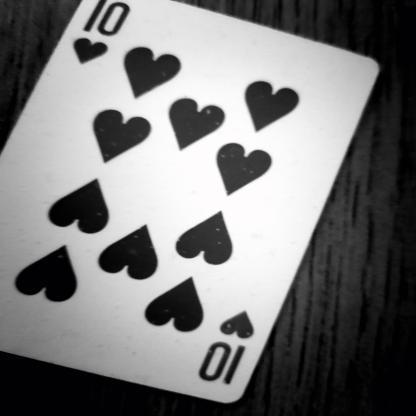10H: (190, 304, 280, 393), (58, 0, 148, 70)
